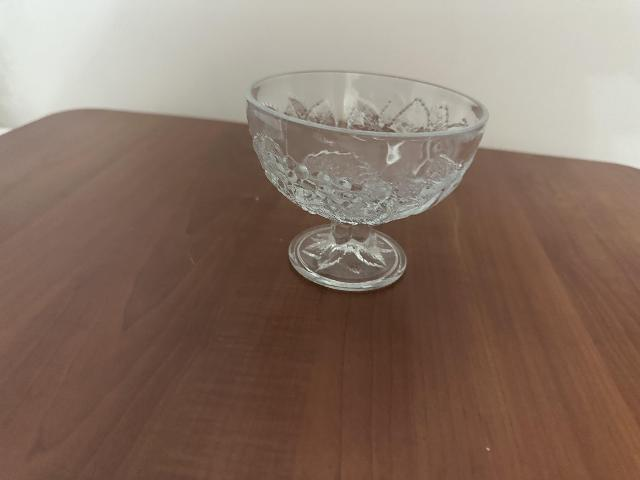Cam: (235, 65, 489, 290)
